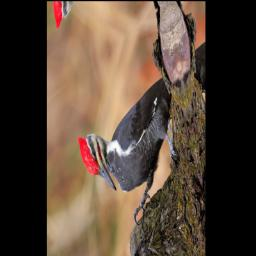Woodpecker: (77, 66, 189, 256)
